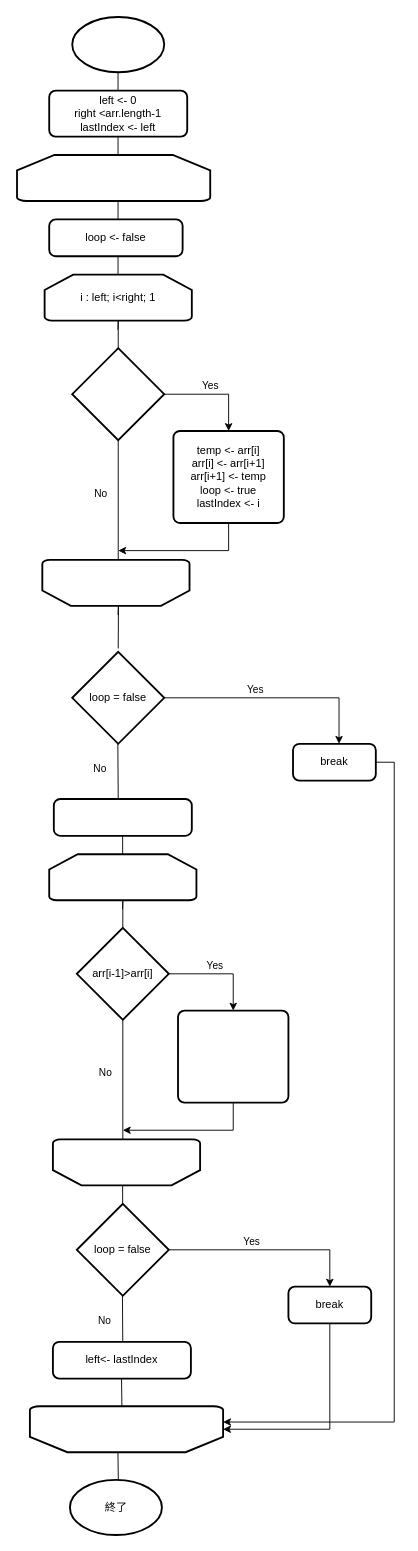
This 418x1551 diagram has some shape labels left out. Each missing label, with the centre of its shape:
arr[i]>arr[i+1]: point (118, 394)
i : right; i>left; -1: point (122, 877)
left < right: point (113, 177)
right <- lastIndex: point (122, 817)
temp <- arr[i] arr[i] <- arr[i-1] arr[i-1] <- temp loop <- true lastIndex <- i: point (233, 1056)
開始: point (118, 44)
